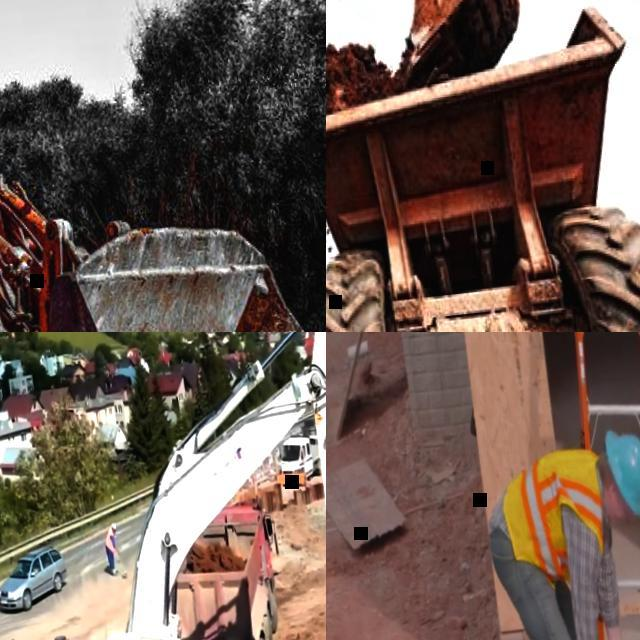Helmet: (594, 418, 640, 528), (108, 523, 123, 536)
Robbery: (463, 422, 640, 640), (101, 498, 130, 588)
